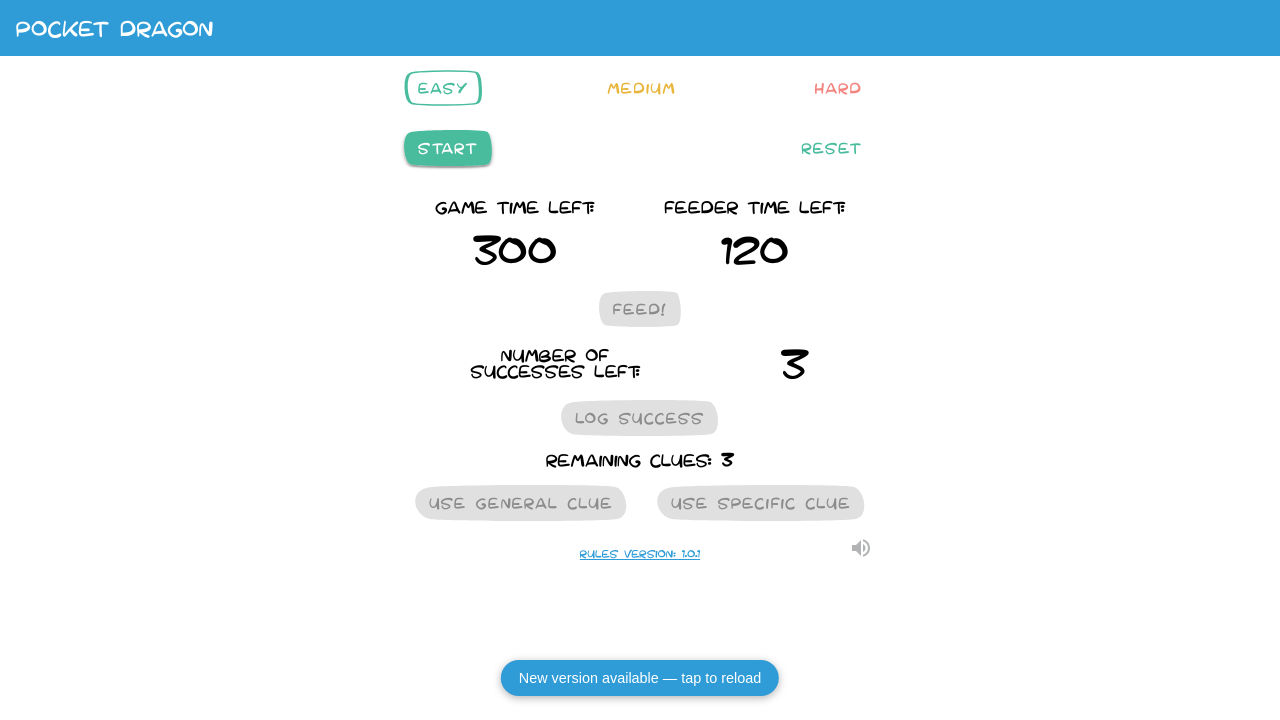
Test: App reload button › hides while the rules modal is open
Click the link with test id "rules-link".
click(640, 554)  # box x1=580 y1=549 x2=700 y2=559
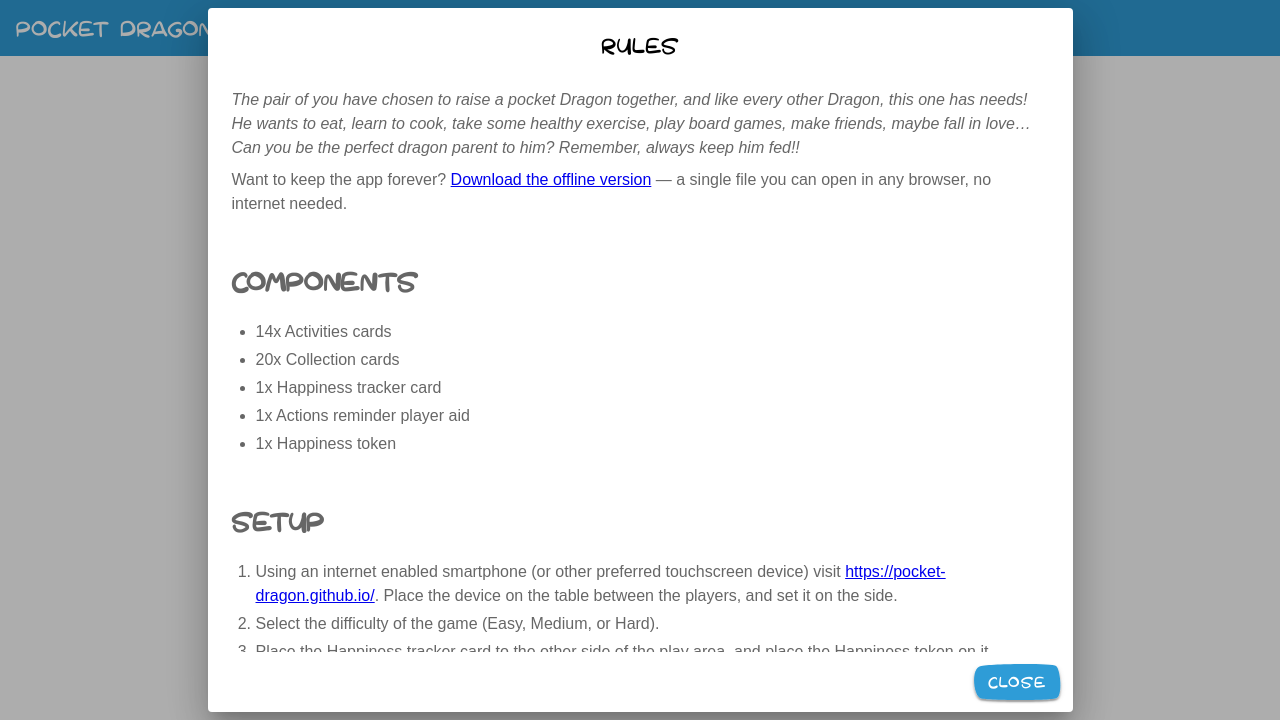
Check: the button with test id "reload-button" is gone
